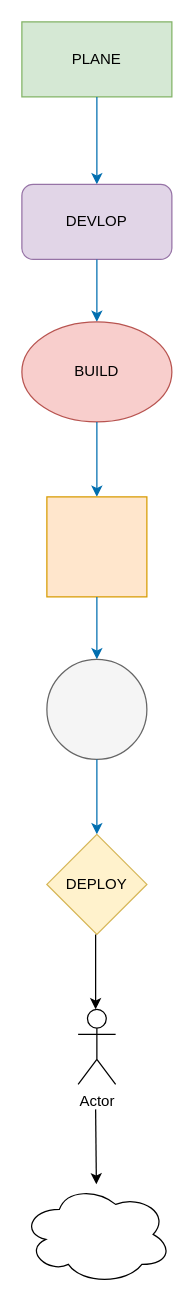
This 194x1306 diagram has some shape labels left out. The shapes that lost their labels are listed below. From the top down, each one's centre as x and y in pixels, then its label:
(x=96, y=546): TEST
(x=96, y=708): RELEASE
